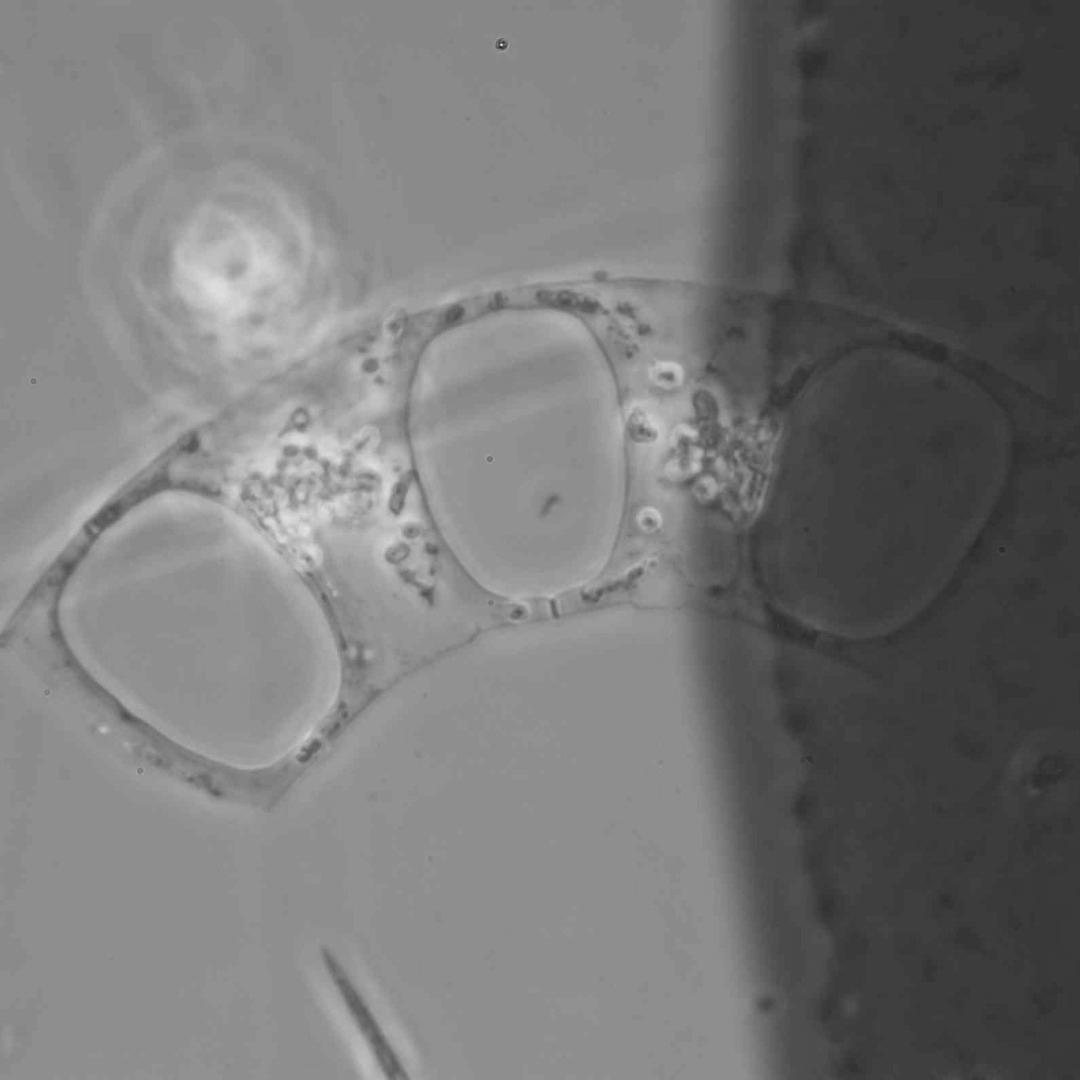eucampia_zodiacus: (1, 278, 1077, 814)
